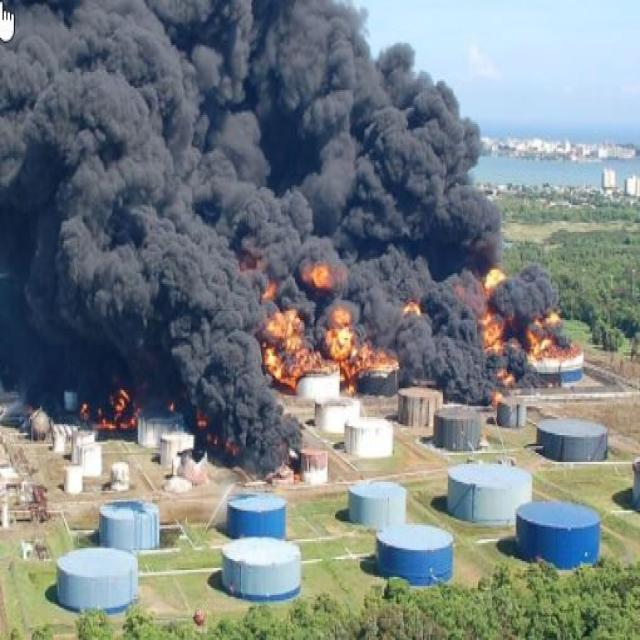Fire: (266, 306, 388, 400), (527, 318, 592, 372), (482, 315, 520, 396), (94, 392, 152, 444), (309, 253, 342, 298), (481, 246, 510, 296)
Smoke: (0, 0, 551, 413)
